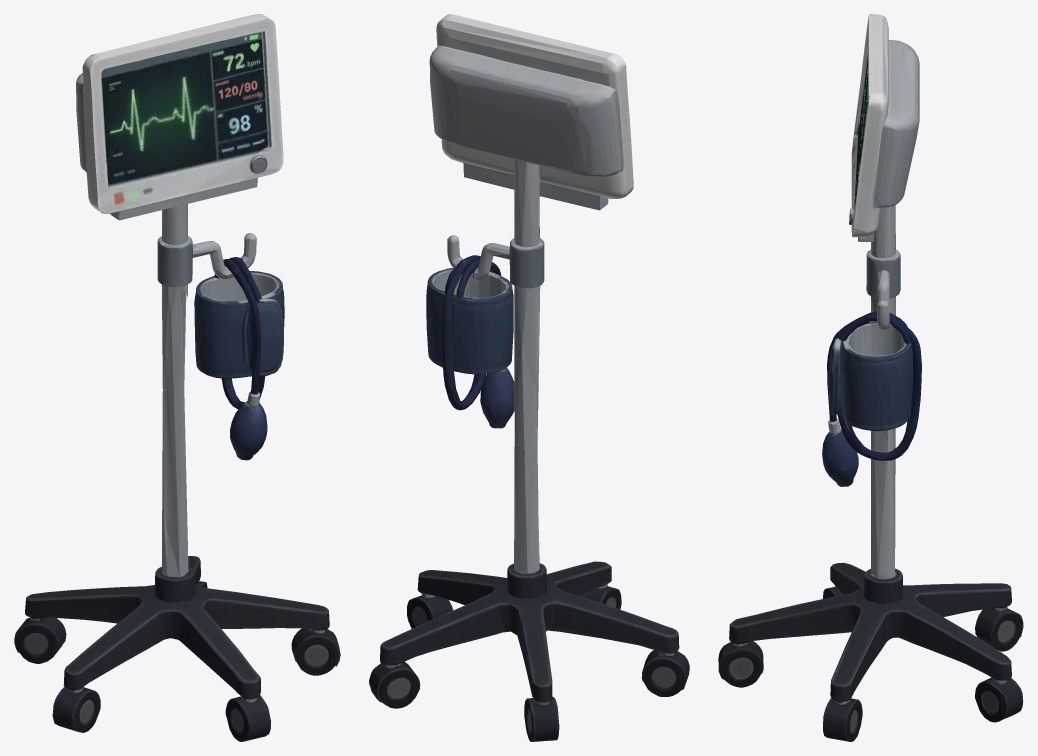
File: monitor.glb
The picture shows the model from 3 angles, left to right: view 1: azimuth 30°, elevation 25°; view 2: azimuth 150°, elevation 25°; view 3: azimuth 270°, elevation 25°; orthographic projection. The views are drawn at different scales.
Size of the model in its own units: 0.8709 by 1.9 by 0.8366.
1 material, 1 textured.
